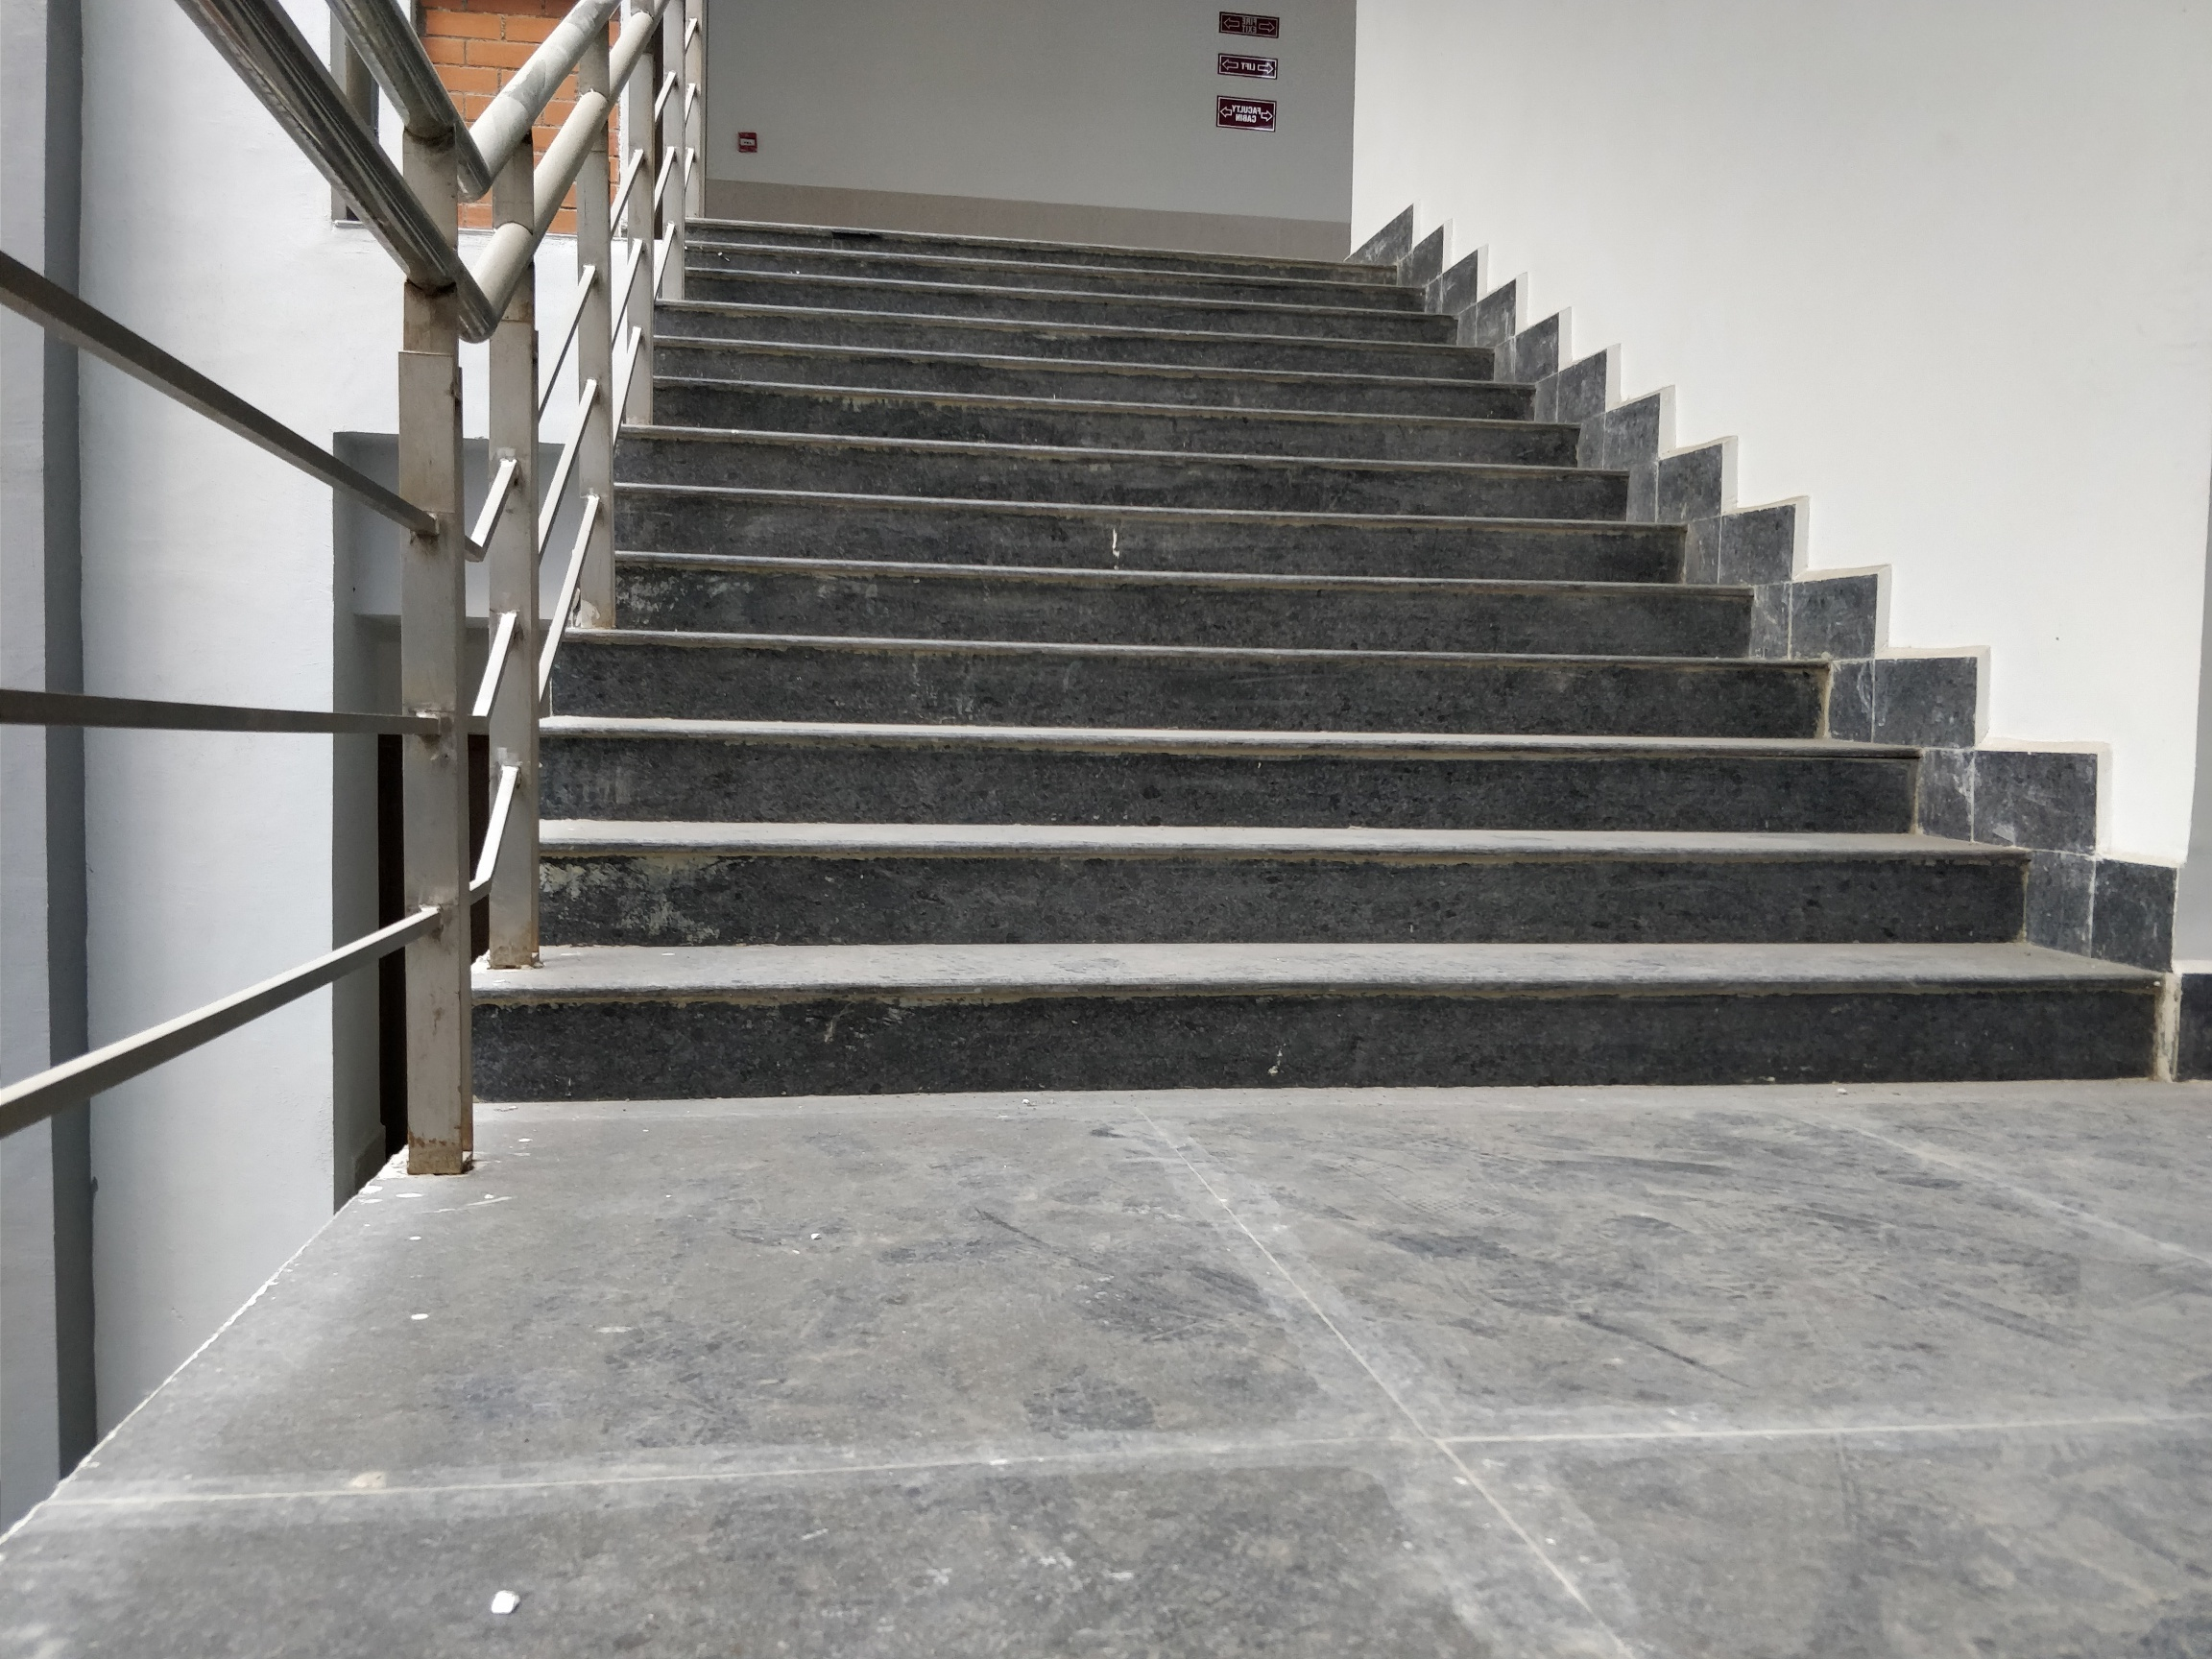stairs_up: (519, 174, 2012, 1084)
